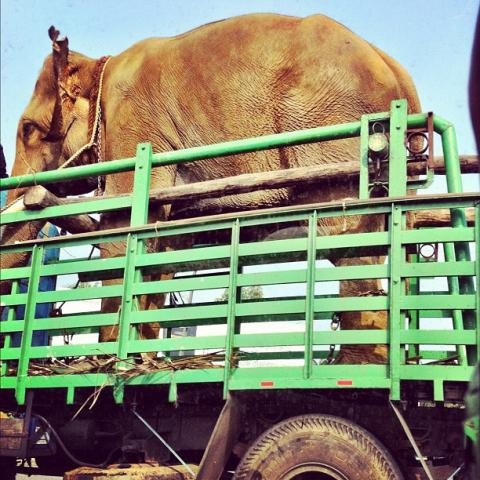truck: (0, 94, 476, 473)
